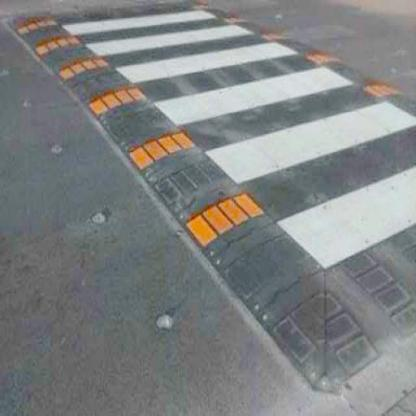crosswalk: (150, 47, 416, 189)
